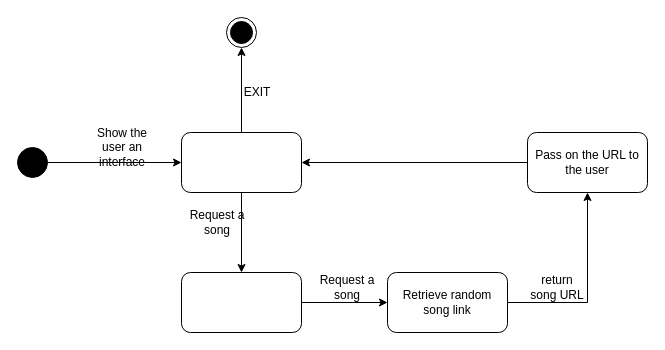
Image size: 665x350. Some labels were removed from this diagram. The centre of each missing label's shape, as x and y in pixels:
"Randomly choose source (wikipedia or shazam)" belongs at [241,302].
"Waiting for user input" belongs at [241,162].
